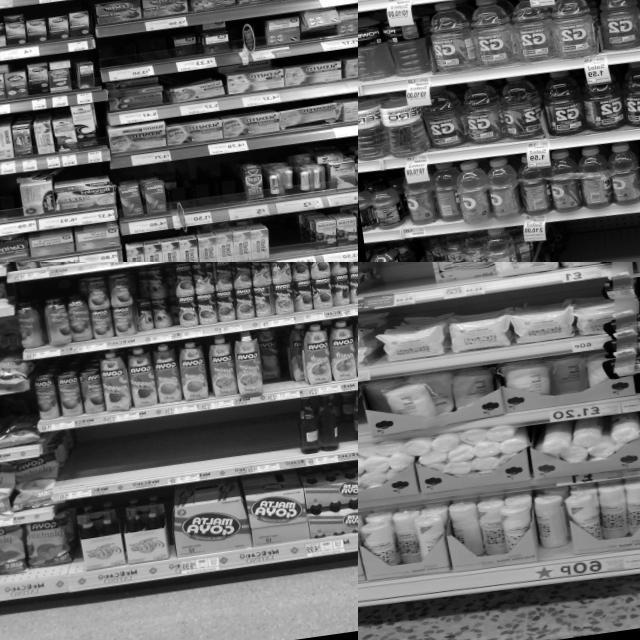empty: (86, 414, 202, 494), (195, 406, 262, 480), (548, 211, 640, 262), (162, 160, 222, 229), (96, 31, 168, 83), (254, 399, 302, 472), (52, 429, 94, 500), (370, 262, 432, 307), (226, 15, 270, 64), (216, 156, 245, 222), (265, 213, 304, 262), (0, 184, 25, 237)
